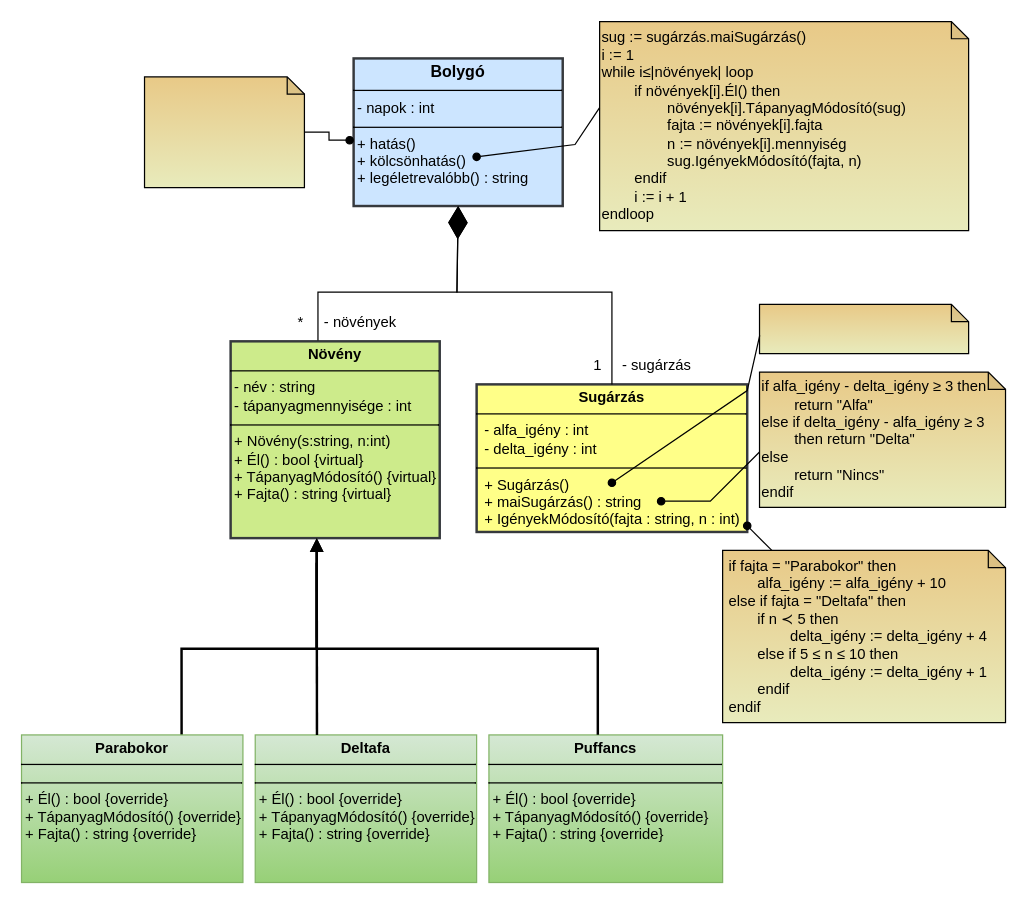
Some shapes in this 1027 by 914 pixel diagram are drawn without their labels. The centre of each missing label's shape, as x and y in pixels:
"alfa_igény := 0 delta_igény := 0" belongs at [863,328].
"i := 1 while j ≤ napok loop kölcsönhatás() j := j + 1 endloop legéletrevalóbb()" belongs at [223,132].
